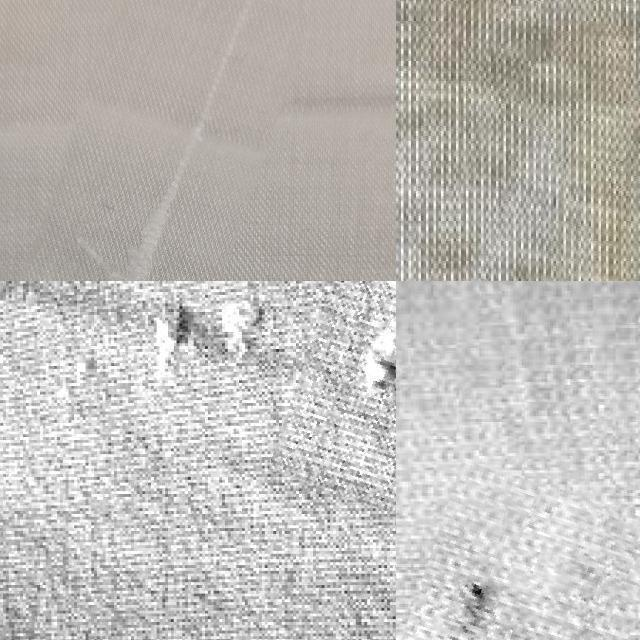Thread_other: (2, 0, 273, 281), (396, 469, 640, 640), (93, 281, 284, 498), (293, 281, 396, 512)
